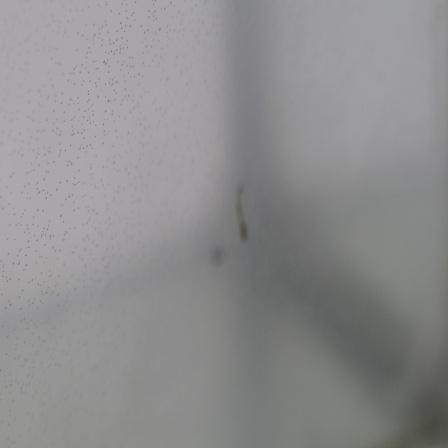Jentik-Nyamuk: (231, 181, 253, 247)
